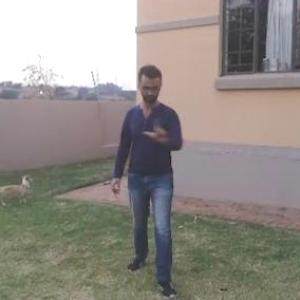land_hand: (139, 112, 171, 144)
